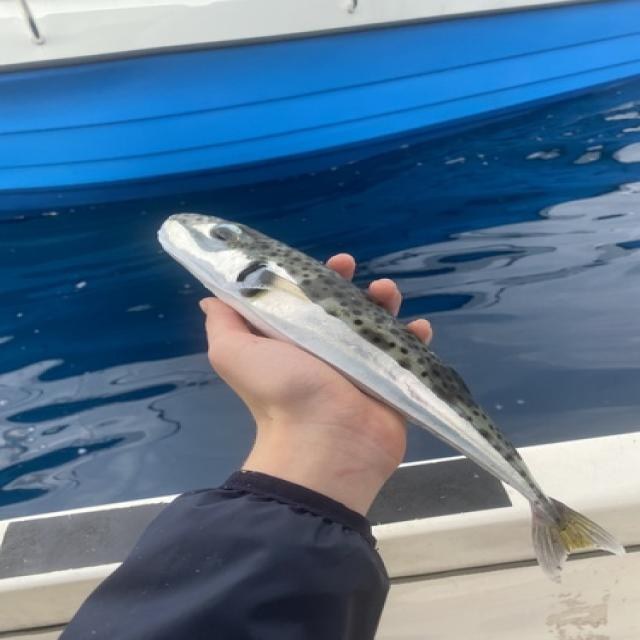Balik: (159, 214, 624, 581)
